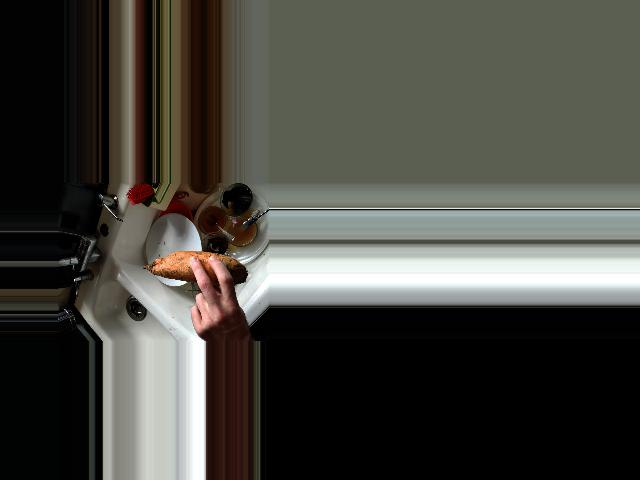sweet_potato: (138, 252, 251, 290)
